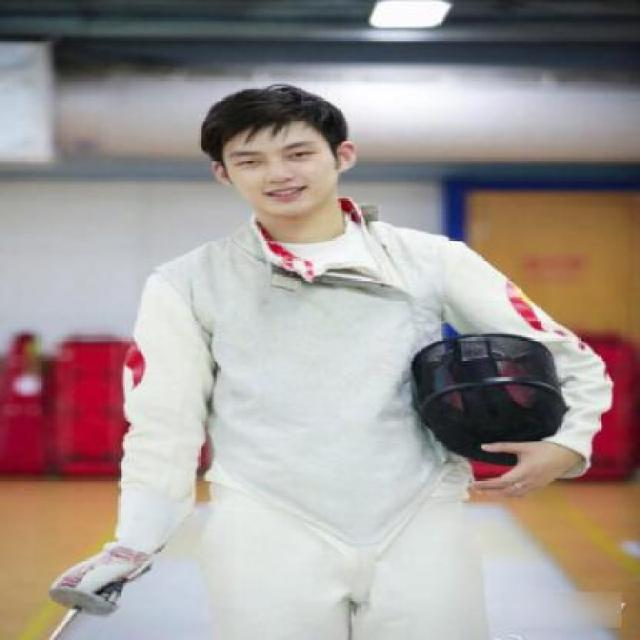Person: (101, 70, 573, 639)
